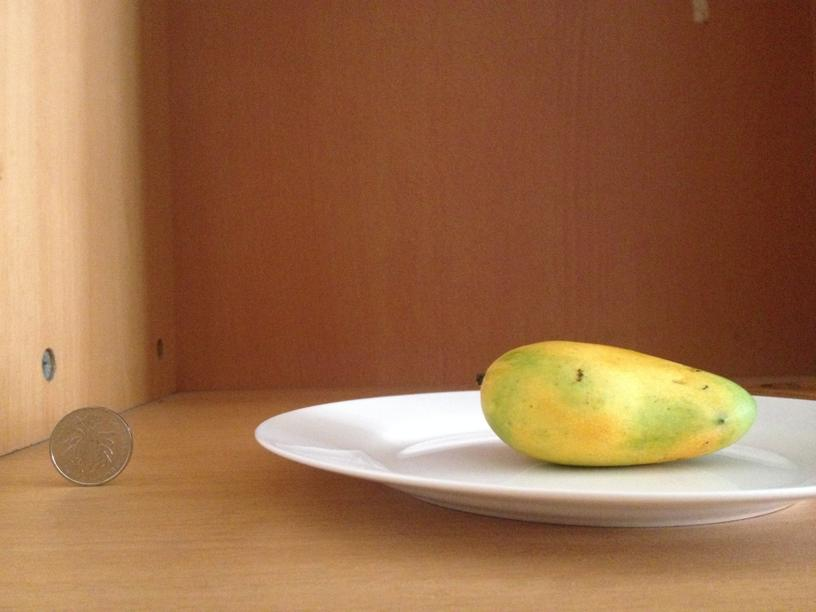coin: (48, 405, 131, 485)
mango: (476, 344, 757, 466)
